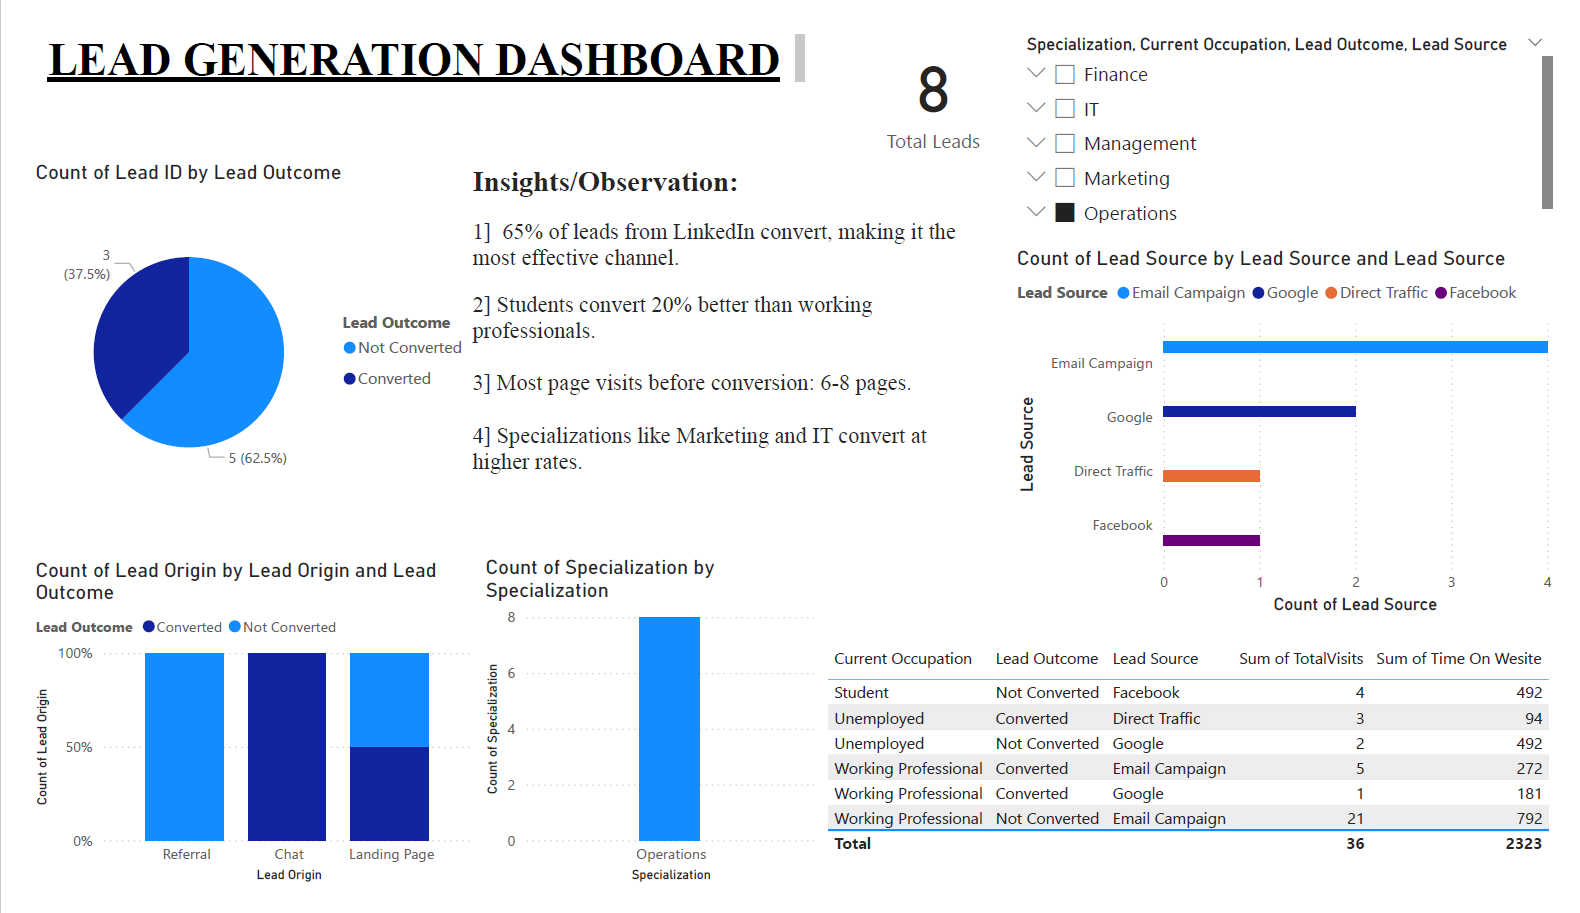

What the dashboard file says about the page in this screenshot:
{"tool":"powerbi","page":{"name":"Page 1","canvas":[1280,720],"ordinal":0},"visuals":[{"type":"pieChart","fields":{"Category":["B2B_Lead_Conversion_Data_Set.Lead Outcome"],"Y":["Count(B2B_Lead_Conversion_Data_Set.Lead ID)"]},"box":[0,110.1,376.6,303.3],"z":0},{"type":"clusteredBarChart","fields":{"Category":["B2B_Lead_Conversion_Data_Set.Lead Source"],"Y":["CountNonNull(B2B_Lead_Conversion_Data_Set.Lead Source)"],"Series":["B2B_Lead_Conversion_Data_Set.Lead Source"]},"box":[822,182,458,312.9],"z":1000},{"type":"clusteredColumnChart","fields":{"Category":["B2B_Lead_Conversion_Data_Set.Specialization"],"Y":["CountNonNull(B2B_Lead_Conversion_Data_Set.Specialization)"]},"box":[376.6,441.4,286.1,278.8],"z":2000},{"type":"hundredPercentStackedColumnChart","fields":{"Category":["B2B_Lead_Conversion_Data_Set.Lead Origin"],"Y":["CountNonNull(B2B_Lead_Conversion_Data_Set.Lead Origin)"],"Series":["B2B_Lead_Conversion_Data_Set.Lead Outcome"]},"box":[0,442.7,376.6,277.6],"z":3000},{"type":"tableEx","fields":{"Values":["B2B_Lead_Conversion_Data_Set.Current Occupation","B2B_Lead_Conversion_Data_Set.Lead Outcome","B2B_Lead_Conversion_Data_Set.Lead Source","Sum(B2B_Lead_Conversion_Data_Set.TotalVisits)","Sum(B2B_Lead_Conversion_Data_Set.Time On Wesite)"]},"box":[662.8,512,617.2,193.4],"z":4000},{"type":"slicer","fields":{"Values":["B2B_Lead_Conversion_Data_Set.Specialization","B2B_Lead_Conversion_Data_Set.Current Occupation","B2B_Lead_Conversion_Data_Set.Lead Outcome","B2B_Lead_Conversion_Data_Set.Lead Source"]},"box":[822,0,458,167.8],"z":5000},{"type":"card","fields":{"Values":["B2B_Lead_Conversion_Data_Set.Total Leads"]},"box":[692.1,0,129.6,110.1],"z":6000},{"type":"textbox","box":[9.8,0,644.4,51.4],"z":6001},{"type":"textbox","box":[365.6,110.1,418.2,303.3],"z":6002}]}

Visuals, with their boxes in screenshot pixels (x1, y1, x2, y2), scaled from the page's 1280x720 canvas onto the 1580x913 screenshot:
pieChart - B2B_Lead_Conversion_Data_Set.Lead Outcome x Count(B2B_Lead_Conversion_Data_Set.Lead ID): bbox=(0, 140, 465, 524)
clusteredBarChart - B2B_Lead_Conversion_Data_Set.Lead Source x CountNonNull(B2B_Lead_Conversion_Data_Set.Lead Source): bbox=(1015, 231, 1579, 628)
clusteredColumnChart - B2B_Lead_Conversion_Data_Set.Specialization x CountNonNull(B2B_Lead_Conversion_Data_Set.Specialization): bbox=(465, 560, 818, 912)
hundredPercentStackedColumnChart - B2B_Lead_Conversion_Data_Set.Lead Origin x CountNonNull(B2B_Lead_Conversion_Data_Set.Lead Origin): bbox=(0, 561, 465, 912)
tableEx - B2B_Lead_Conversion_Data_Set.Current Occupation x B2B_Lead_Conversion_Data_Set.Lead Outcome: bbox=(818, 649, 1579, 894)
slicer - B2B_Lead_Conversion_Data_Set.Specialization x B2B_Lead_Conversion_Data_Set.Current Occupation: bbox=(1015, 0, 1579, 213)
card - B2B_Lead_Conversion_Data_Set.Total Leads: bbox=(854, 0, 1014, 140)
textbox: bbox=(12, 0, 808, 65)
textbox: bbox=(451, 140, 968, 524)
